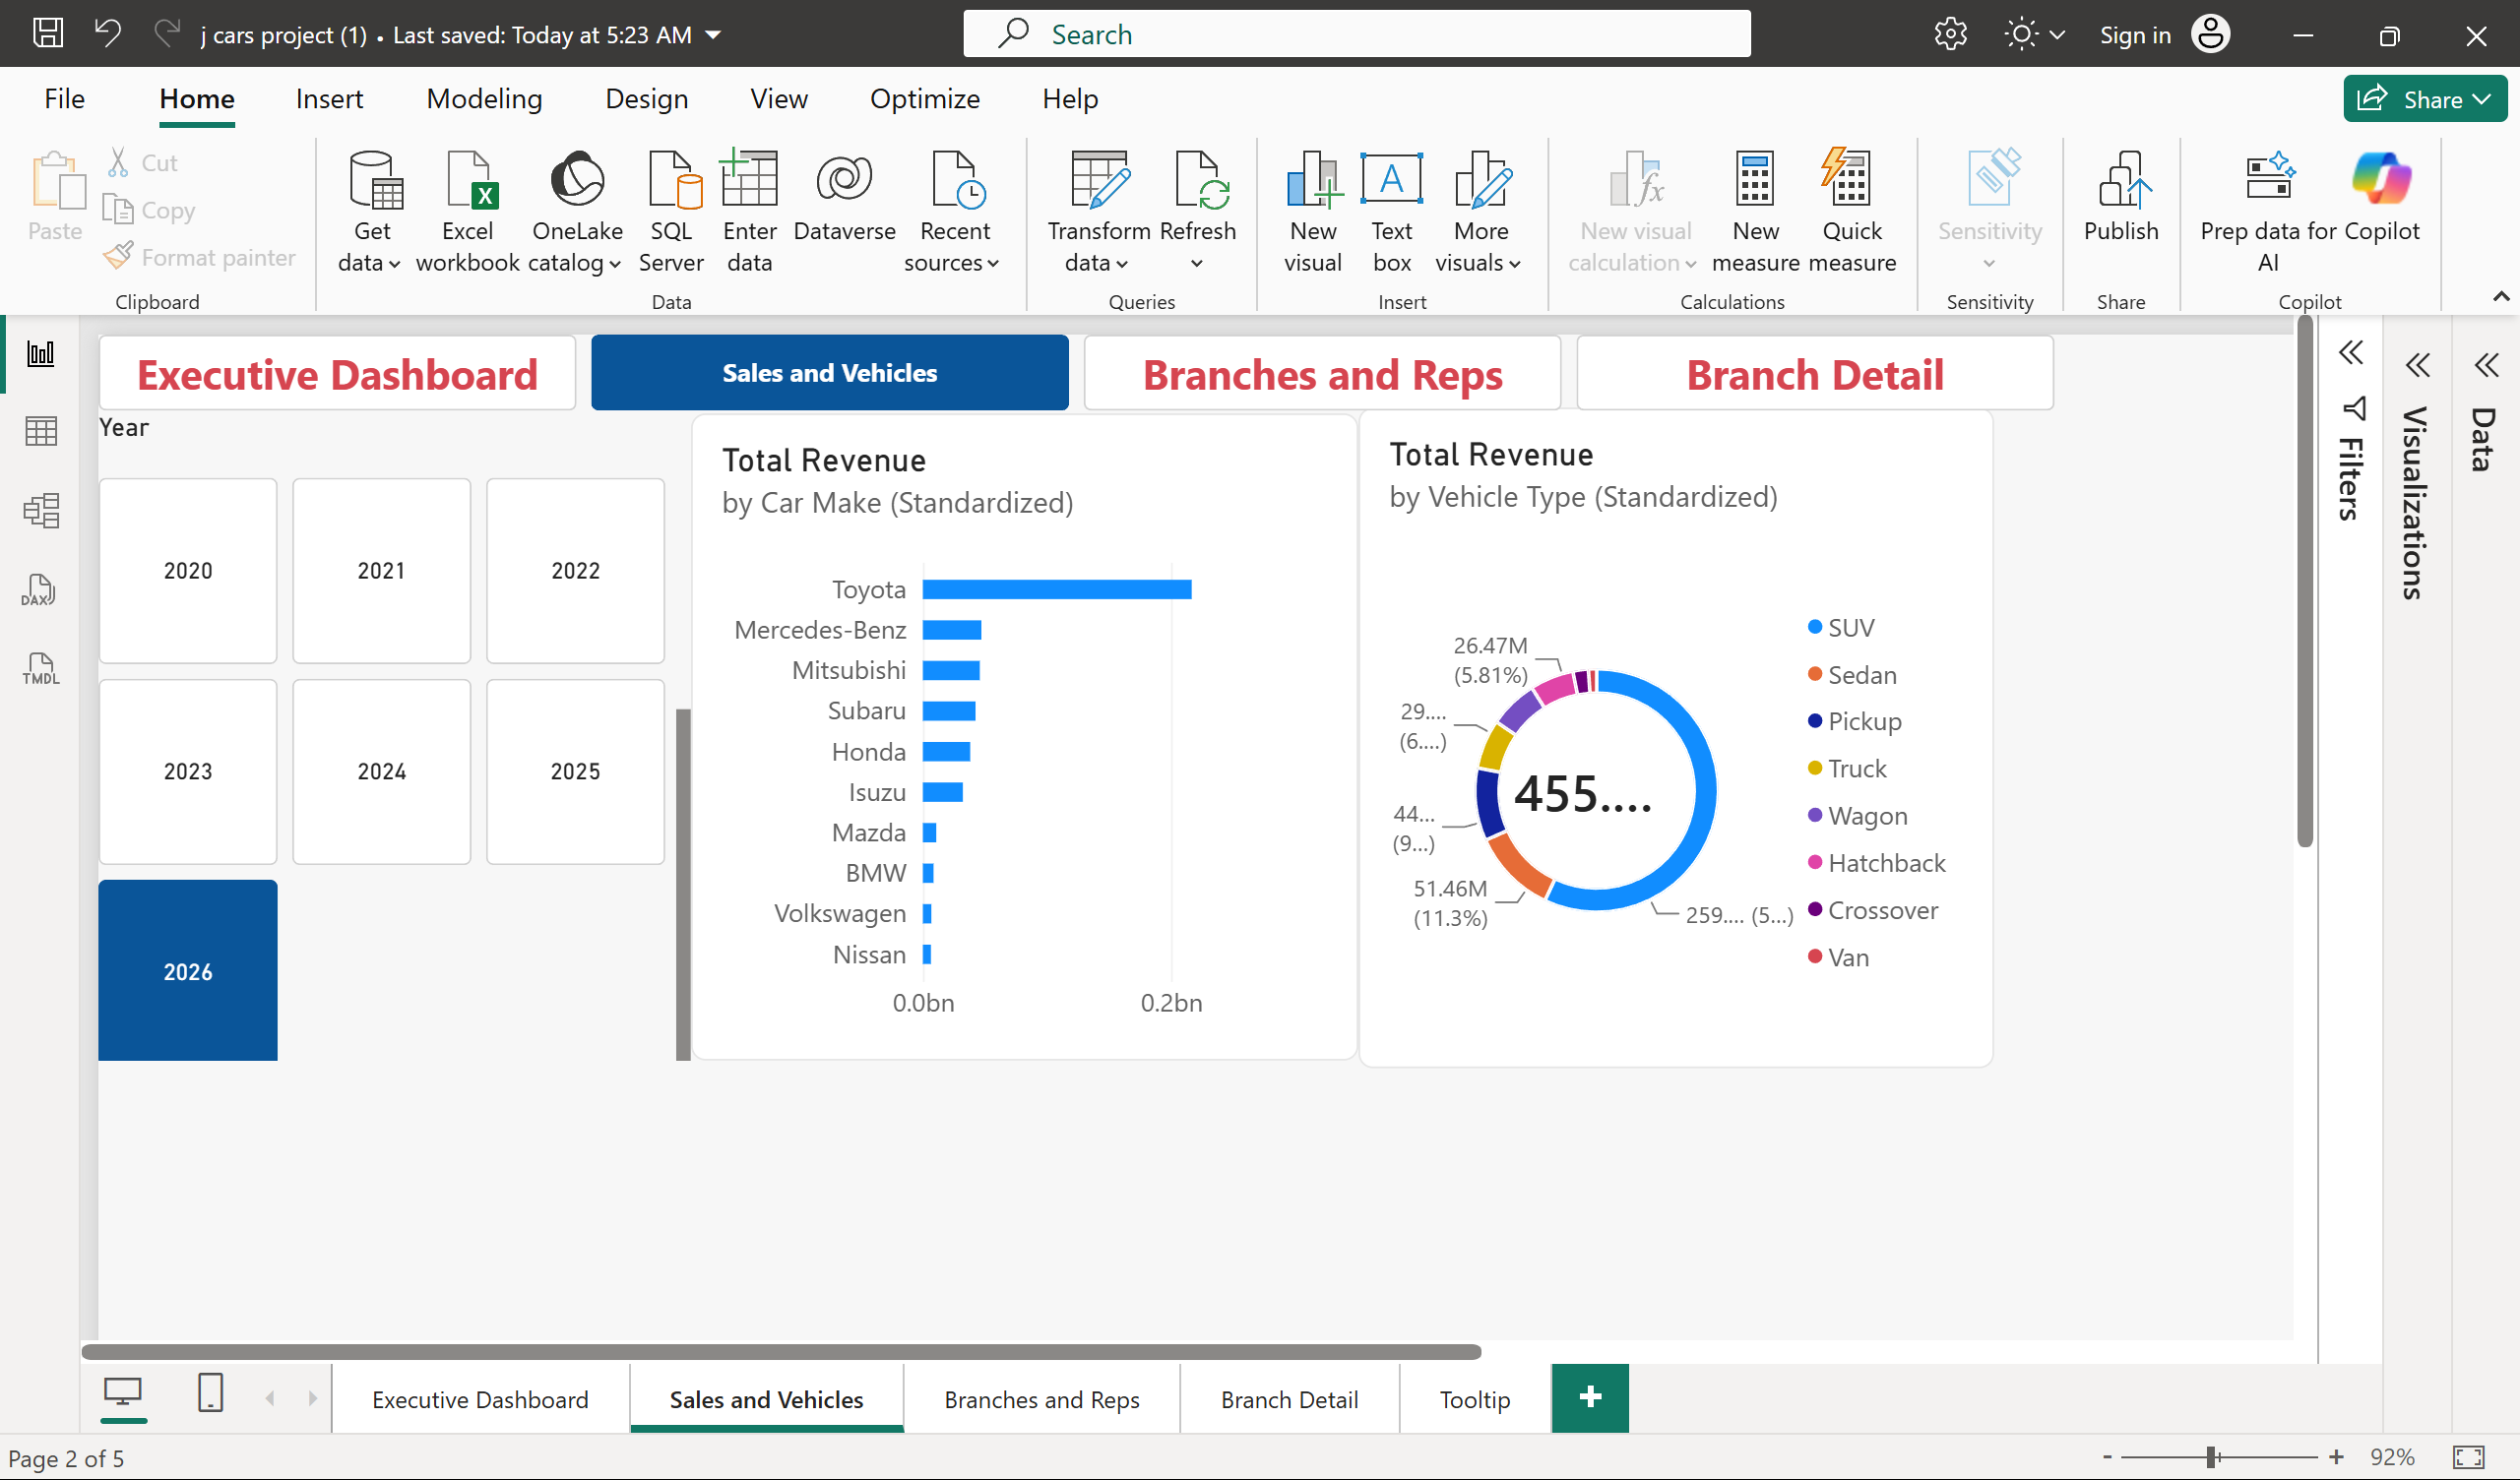

The page's visual inventory and layout, read from the dashboard file:
{"tool":"powerbi","page":{"name":"Sales and Vehicles","canvas":[1920,1080],"ordinal":1},"visuals":[{"type":"clusteredBarChart","fields":{"Category":["DimVehicle.Car Make (Standardized)"],"Y":["DimBranch.Total Revenue"]},"box":[327.2,43.5,368.5,357.6],"z":0},{"type":"donutChart","fields":{"Category":["DimVehicle.Vehicle Type (Standardized)"],"Y":["DimBranch.Total Revenue"]},"box":[695.7,40.2,351.1,365.2],"z":1},{"type":"advancedSlicerVisual","fields":{"Values":["DimOrderDate.Year"]},"box":[0,42.4,327.2,358.7],"z":2},{"type":"pageNavigator","box":[0,0,1081.5,42.4],"z":3}]}

Visuals, with their boxes on the page's 1920x1080 design canvas (x1, y1, x2, y2). These are canvas units, not pixel positions in the 2520x1480 screenshot, which may show the page scaled, cropped or inside an application window:
clusteredBarChart - DimVehicle.Car Make (Standardized) x DimBranch.Total Revenue: <region>327, 44, 696, 401</region>
donutChart - DimVehicle.Vehicle Type (Standardized) x DimBranch.Total Revenue: <region>696, 40, 1047, 405</region>
advancedSlicerVisual - DimOrderDate.Year: <region>0, 42, 327, 401</region>
pageNavigator: <region>0, 0, 1082, 42</region>
